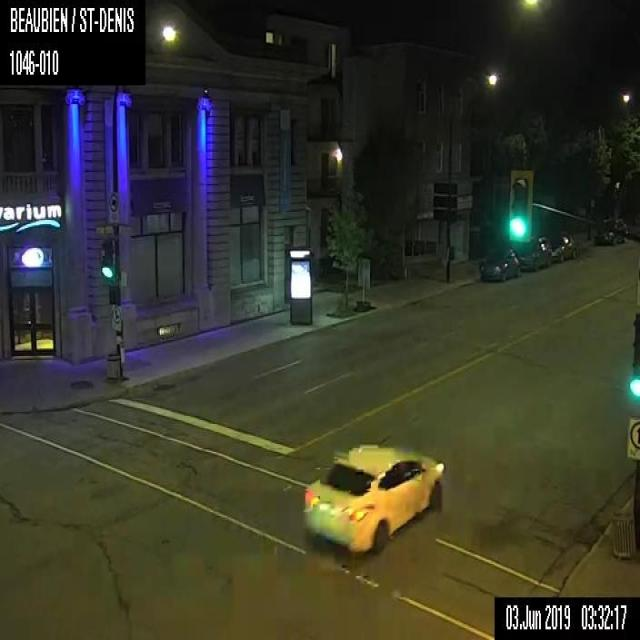vehicle: (303, 443, 444, 553), (478, 246, 520, 281), (515, 234, 552, 270), (593, 216, 627, 244), (548, 232, 576, 262)
